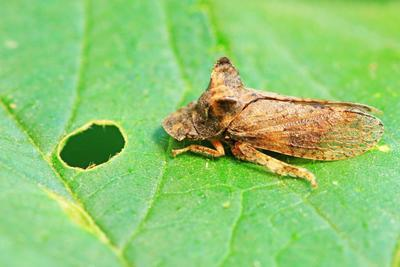Cicadellidae: (161, 57, 385, 187)
